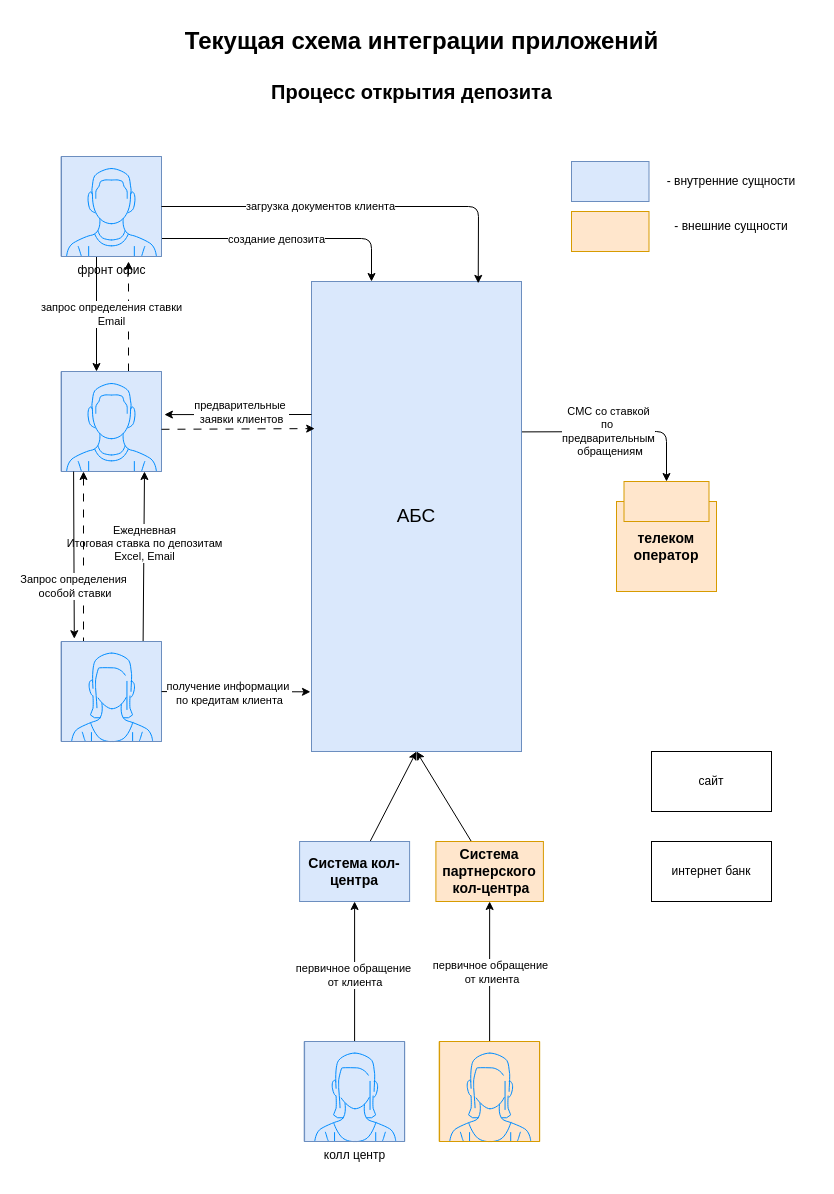
Image size: 834x1194. Some labels were removed from this diagram. The centre of each missing label's shape, as x and y in pixels:
отдел депозитов: (111,421)
отдел кредитования: (111,691)
партнерский колл центр: (489,1091)
Смс шлюз: (666,501)
